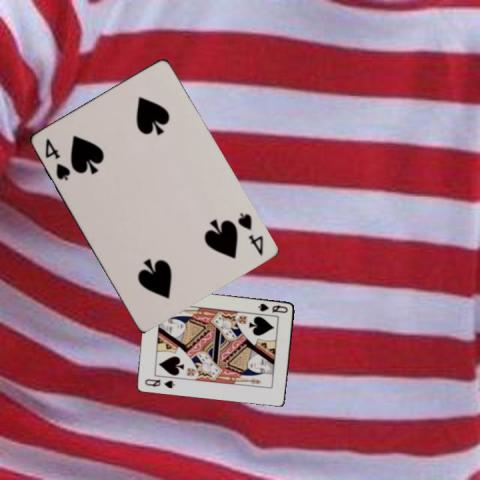4s: (234, 210, 265, 258), (42, 135, 72, 182)
Qs: (256, 300, 290, 314), (142, 376, 176, 389)
